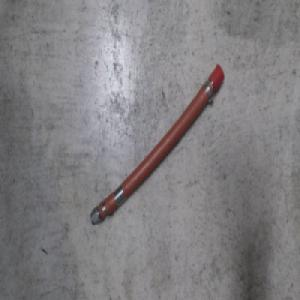Hose: (88, 60, 227, 227)
